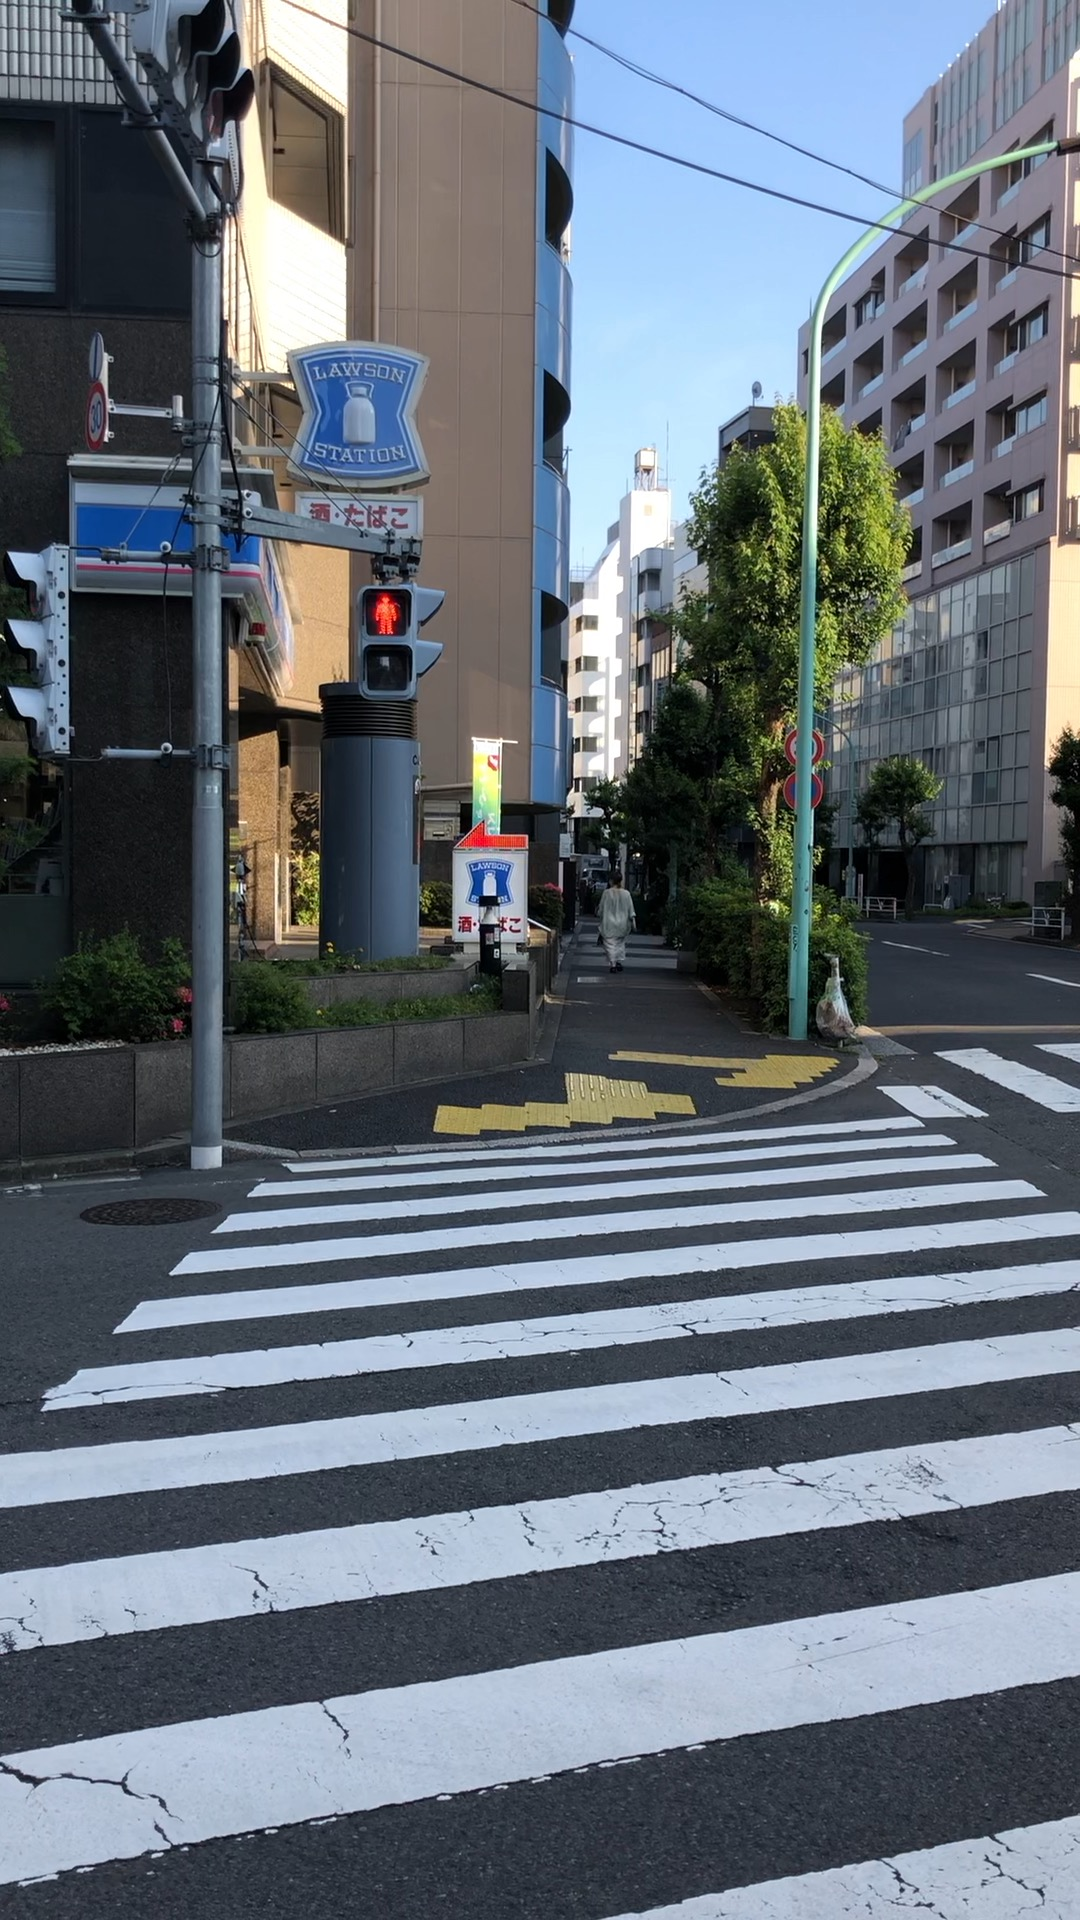red: (353, 584, 418, 699)
